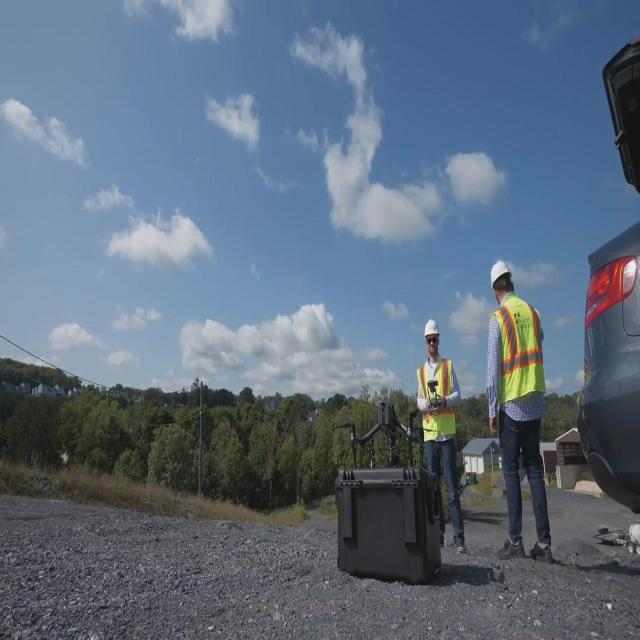Vest: (492, 298, 546, 407), (416, 358, 456, 436)
